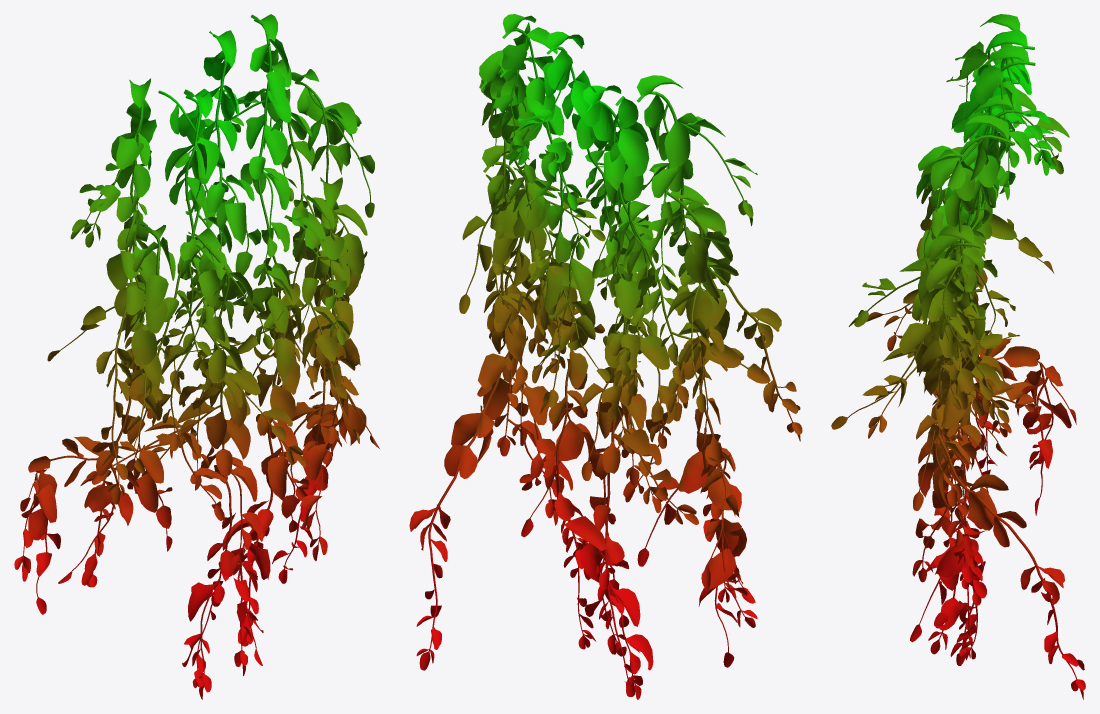
File: Var5_LOD0.fbx
3 views of the same model, side by side, from view 1: azimuth 30°, elevation 25°; view 2: azimuth 150°, elevation 25°; view 3: azimuth 270°, elevation 25° (orthographic). The views are drawn at different scales.
Parts seen in each view (by area): view 1: _vvwf_Var5_LOD0; view 2: _vvwf_Var5_LOD0; view 3: _vvwf_Var5_LOD0.
Part boxes in pixels (<box>): _vvwf_Var5_LOD0: <box>14,14,379,699</box>; _vvwf_Var5_LOD0: <box>409,14,802,699</box>; _vvwf_Var5_LOD0: <box>831,14,1085,699</box>.
Bounding box in the file's own units: 65.33 × 127 × 44.26.
